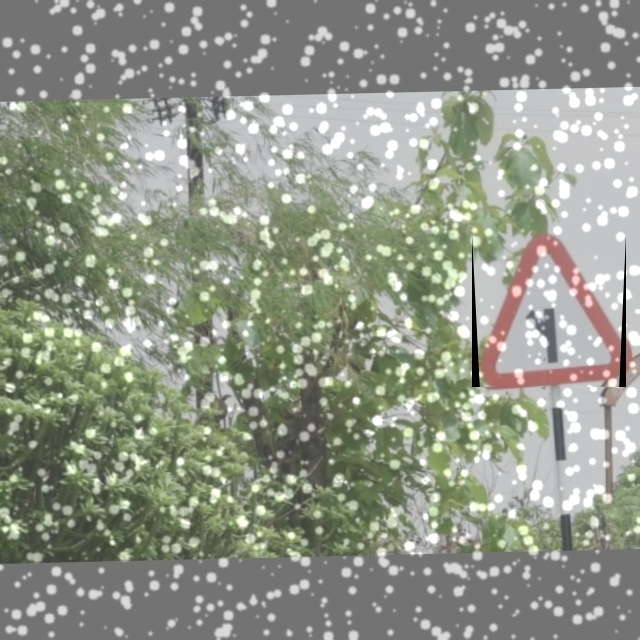Y_Intersection: (472, 234, 626, 387)
